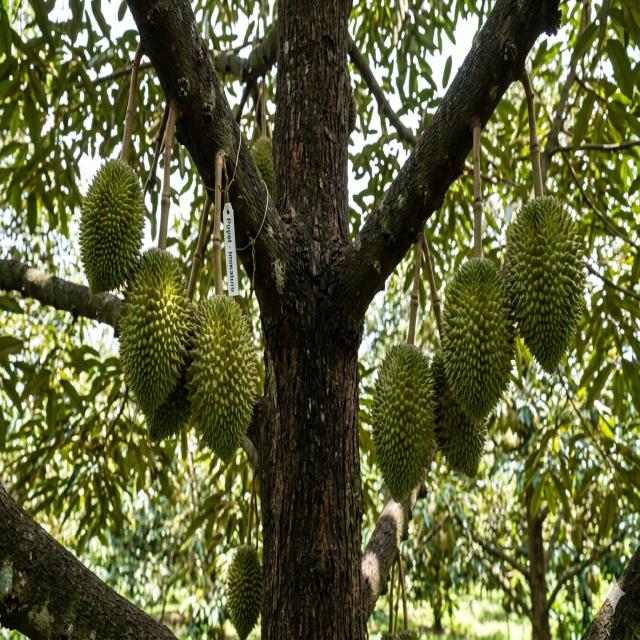immature: (503, 193, 591, 372), (116, 248, 194, 421), (184, 292, 262, 462), (438, 255, 514, 422), (370, 344, 436, 502), (78, 156, 146, 292), (430, 349, 489, 476), (226, 542, 264, 637), (132, 244, 182, 299), (250, 135, 274, 195), (348, 92, 358, 134)
